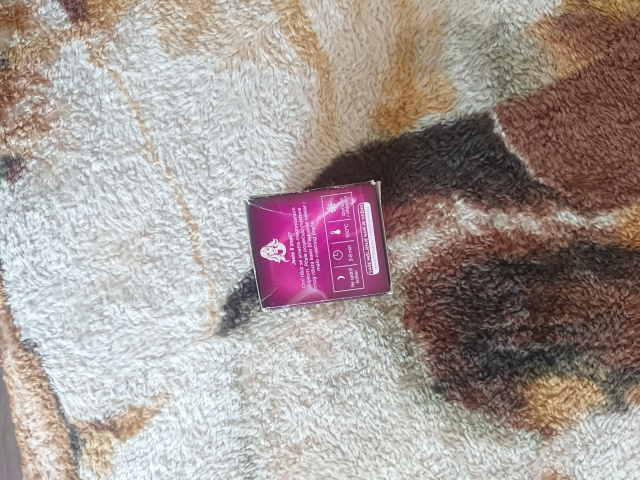Franck Black Currant Tea 60g: (241, 177, 396, 314)
